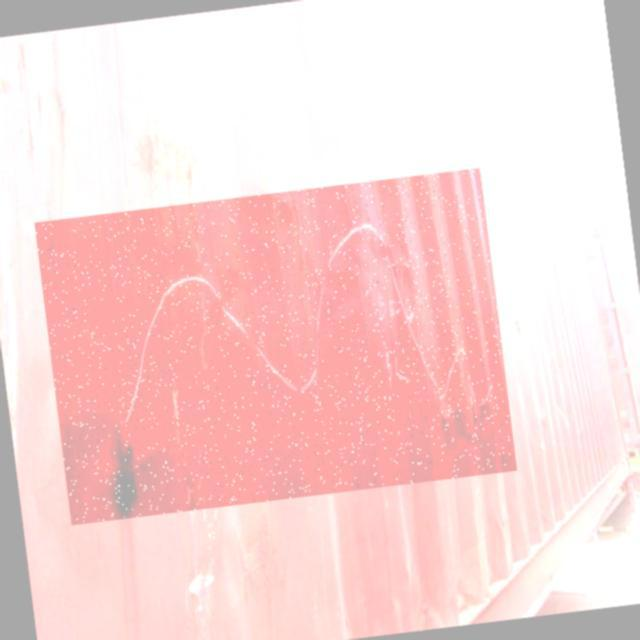Dent: (34, 167, 517, 525)
